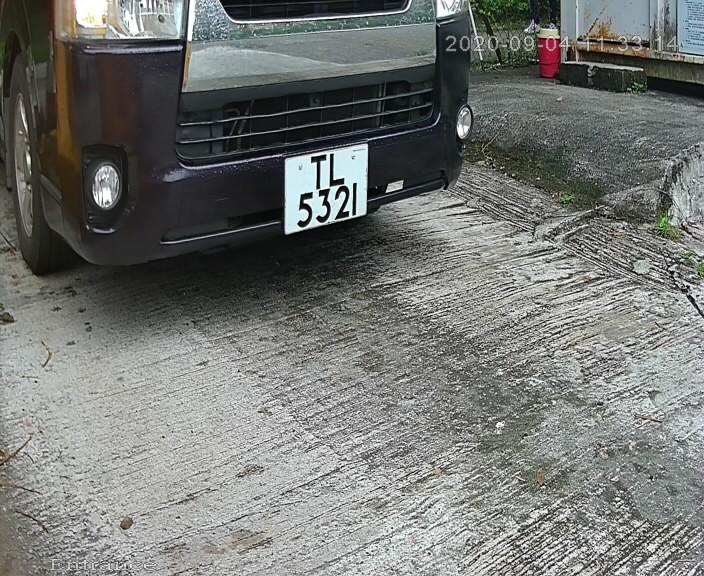Car: (26, 1, 532, 314)
License Plate: (274, 139, 378, 237)
